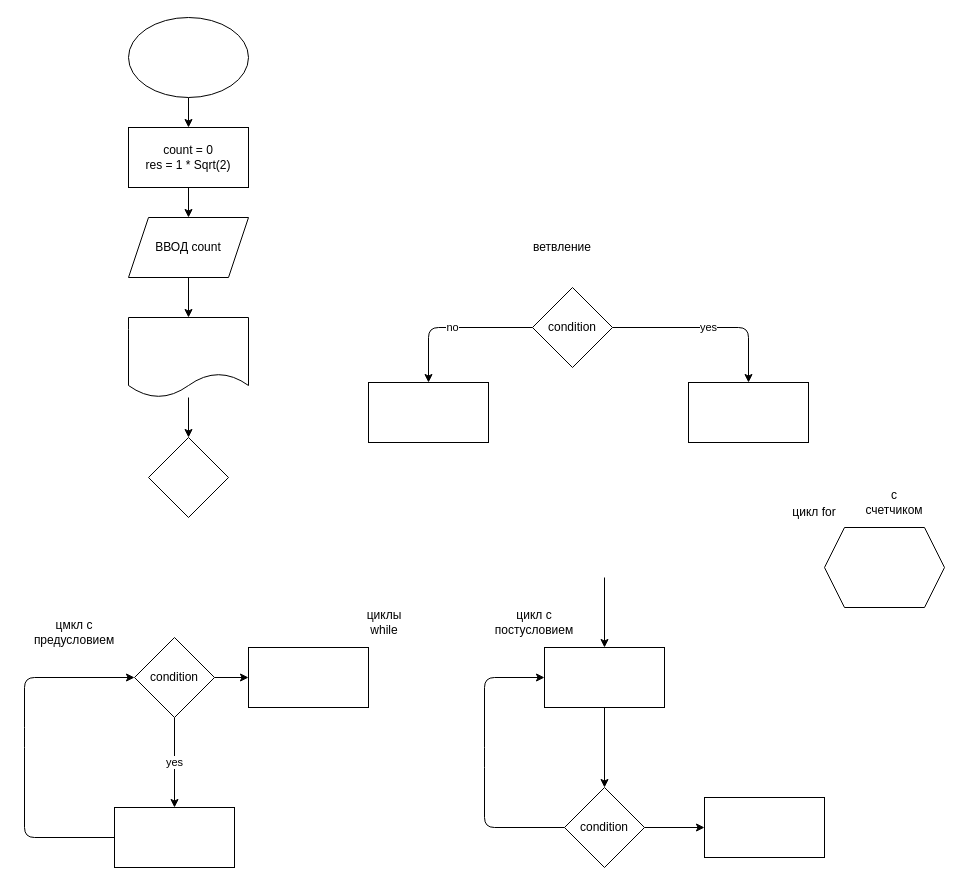
Image size: 962x885. Some labels were removed from this diagram. The centre of each missing label's shape, as x and y in pixels:
count = 1, 10, 5: point (884, 567)
Start, End: point (188, 57)
ВЫВОД res: point (188, 357)
